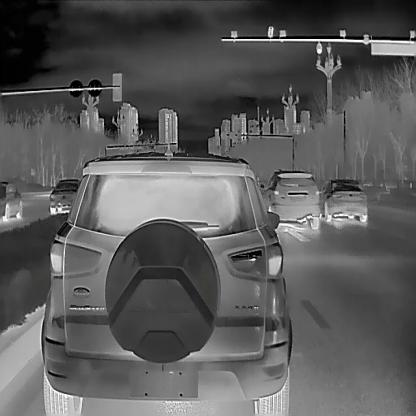car: (40, 148, 291, 415), (257, 167, 318, 228), (318, 177, 366, 221), (48, 178, 81, 216), (0, 179, 21, 221)
